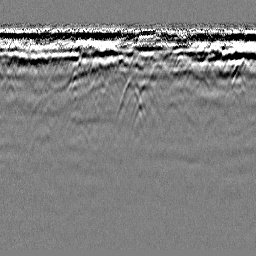cavity: (116, 75, 143, 117)
